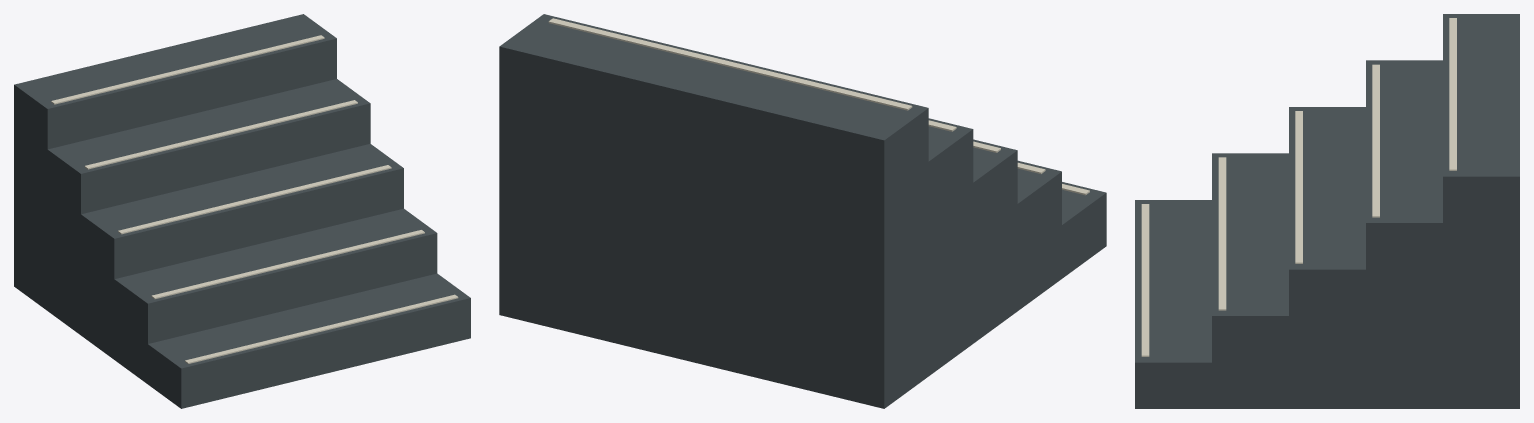
File: ring_steps.glb
The picture shows the model from 3 angles, left to right: view 1: azimuth 30°, elevation 25°; view 2: azimuth 150°, elevation 25°; view 3: azimuth 270°, elevation 25°; orthographic projection. The views are drawn at different scales.
Visible parts, largest first — view 1: ring_steps_Steel, ring_steps_Ivory; view 2: ring_steps_Steel, ring_steps_Ivory; view 3: ring_steps_Steel, ring_steps_Ivory.
Boxes of the visible parts, left/top/right/bottom form: ring_steps_Steel: left=14, top=14, right=470, bottom=408; ring_steps_Ivory: left=51, top=35, right=458, bottom=363; ring_steps_Steel: left=499, top=14, right=1106, bottom=408; ring_steps_Ivory: left=548, top=18, right=1089, bottom=195; ring_steps_Steel: left=1135, top=14, right=1519, bottom=408; ring_steps_Ivory: left=1141, top=18, right=1456, bottom=356.
Bounding box in the file's own units: 1.5 × 1.01 × 1.5.
